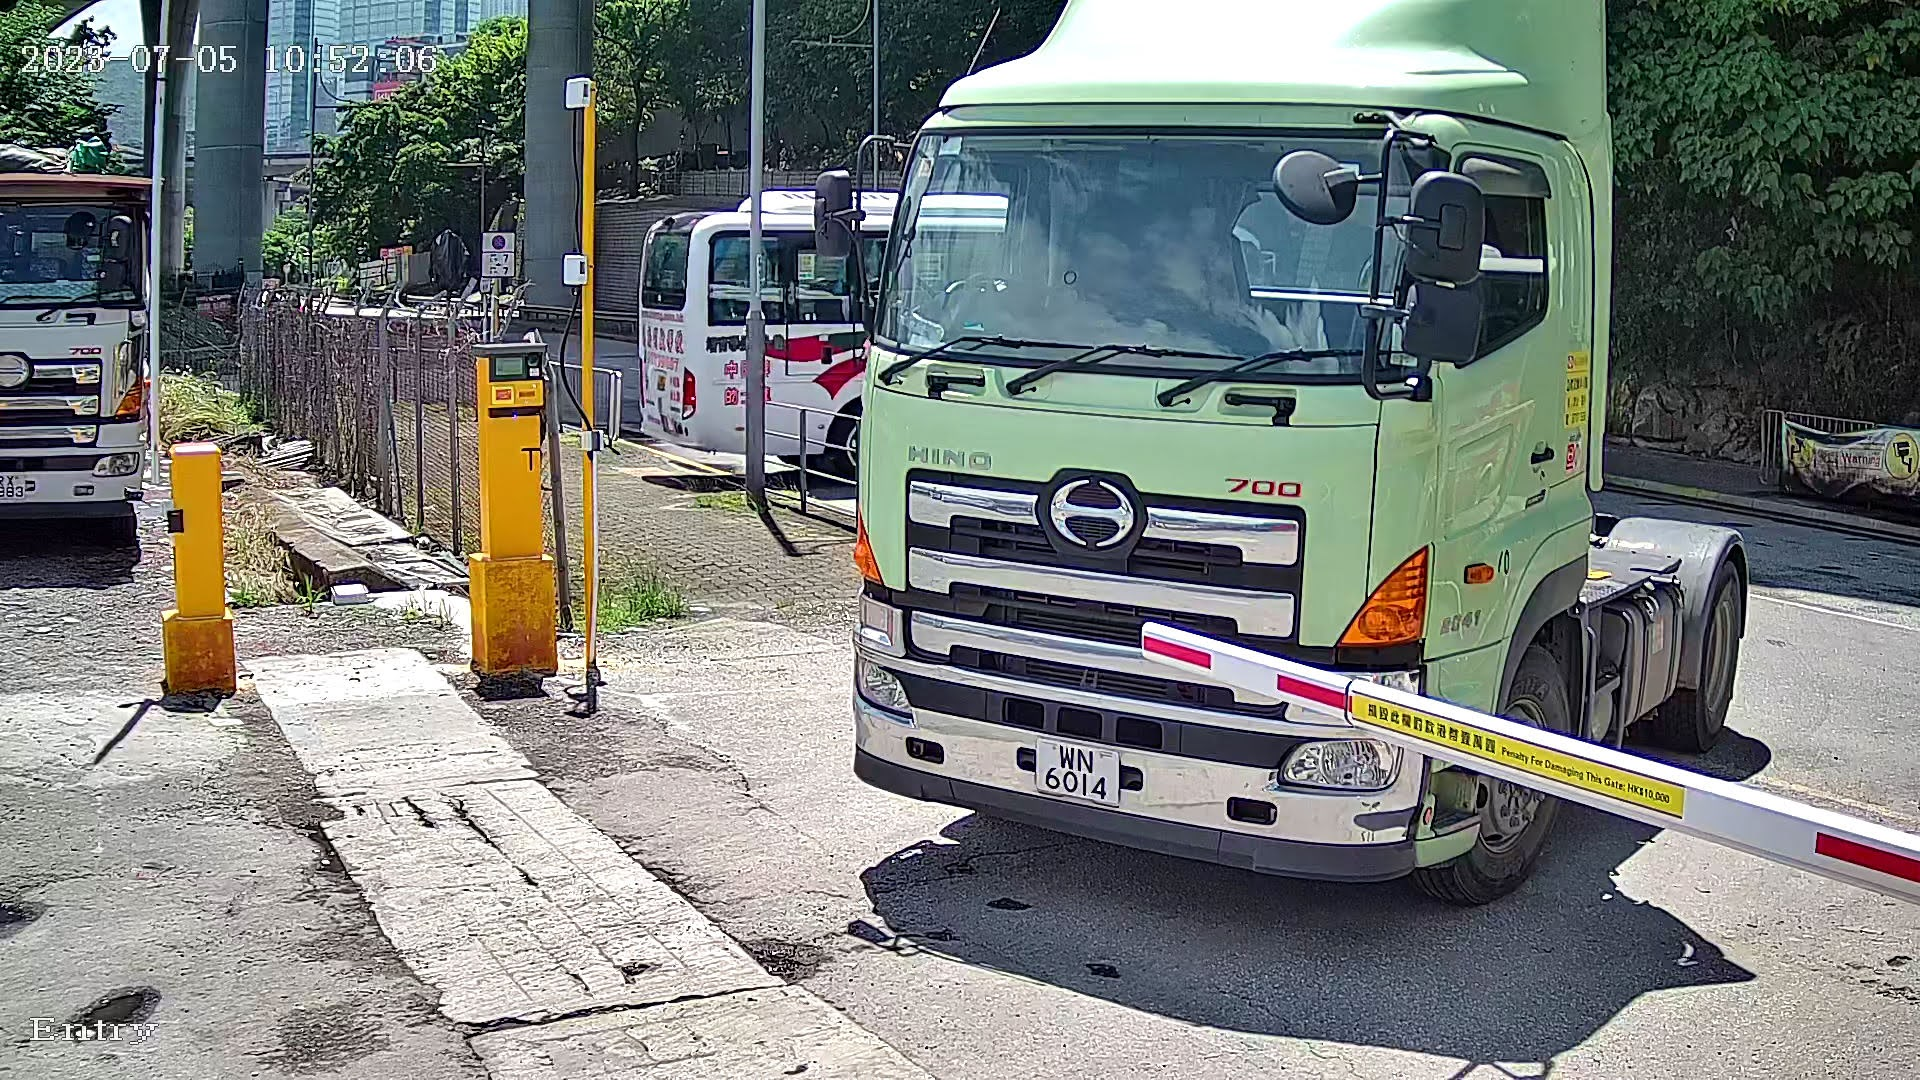tractor: (771, 1, 1764, 982)
